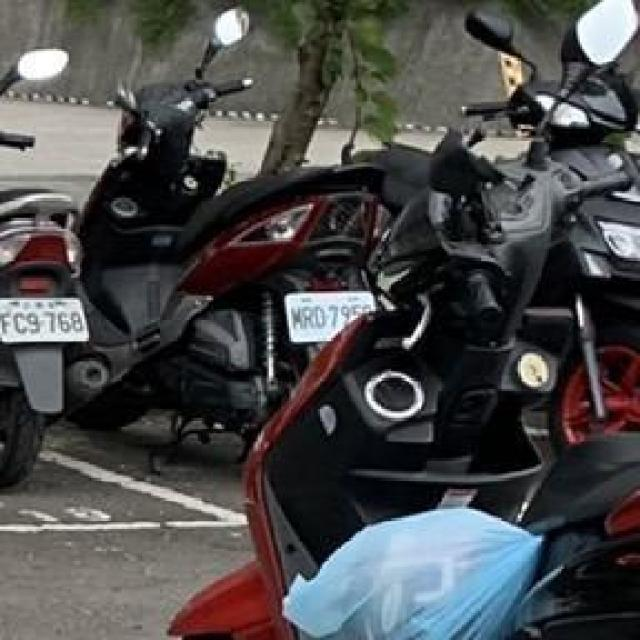W: (0, 287, 91, 349), (284, 290, 382, 344)
